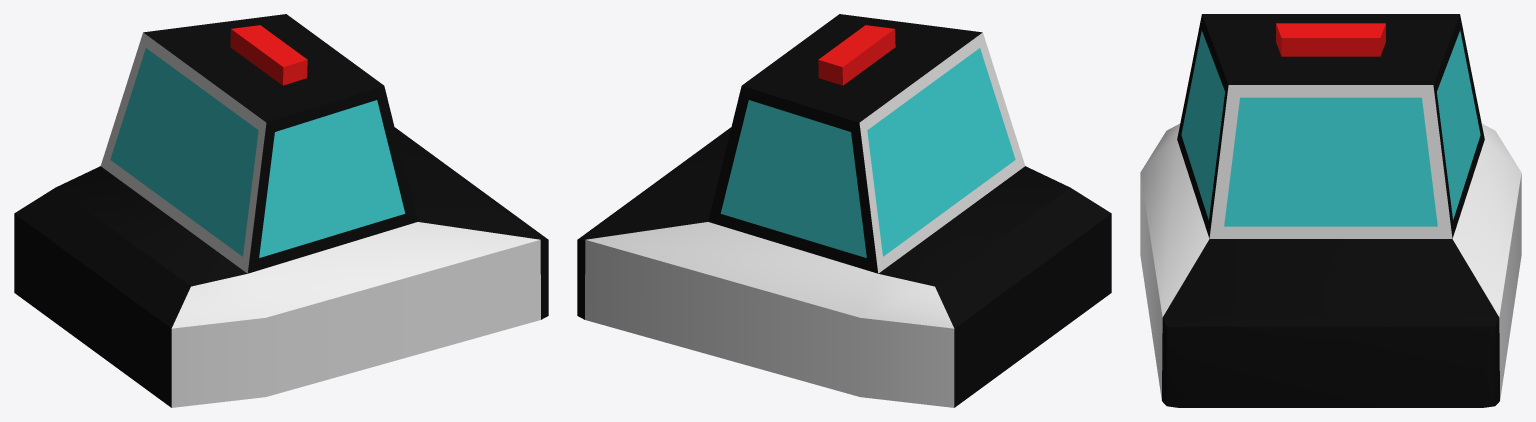
The model's file is Police_Car.FBX.
The picture shows the model from 3 angles, left to right: view 1: azimuth 30°, elevation 25°; view 2: azimuth 150°, elevation 25°; view 3: azimuth 270°, elevation 25°; orthographic projection. The views are drawn at different scales.
Visible parts, largest first — view 1: Police_Car; view 2: Police_Car; view 3: Police_Car.
Part boxes in pixels (left/top/right/bottom): Police_Car: left=14, top=14, right=548, bottom=407; Police_Car: left=577, top=14, right=1111, bottom=407; Police_Car: left=1140, top=14, right=1521, bottom=407.
Bounding box in the file's own units: 352 × 292 × 231.
